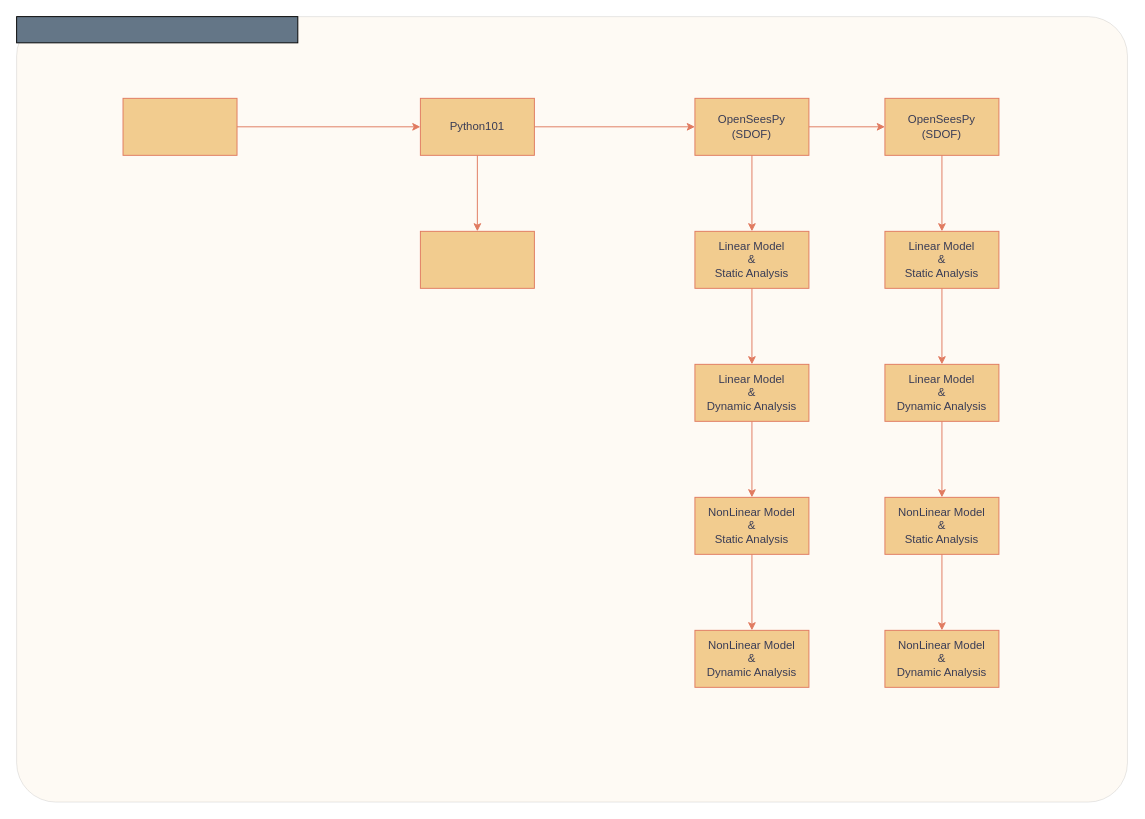
Some shapes in this 1145 by 819 pixel diagram are drawn without their labels. Each missing label, with the centre of its shape:
OpenSees-Python: [179,126]
OpenSeesPy Road Map: [157,29]
PY fundamentals: [476,259]
